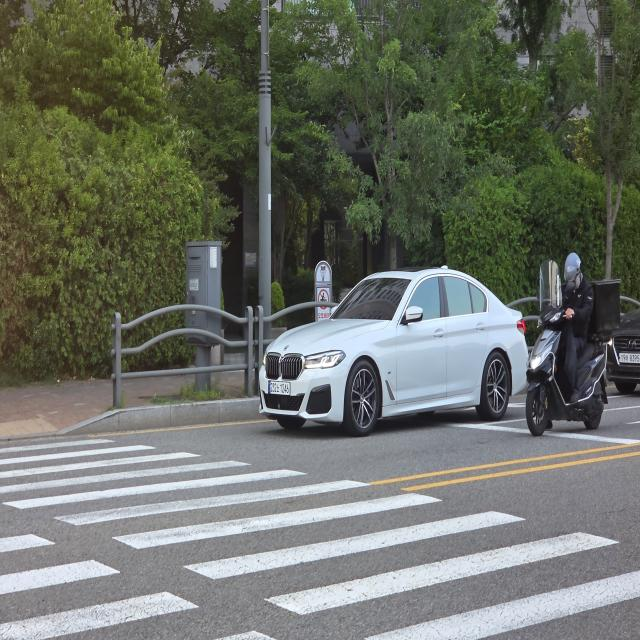car: (254, 251, 526, 468)
motorcycle: (520, 225, 630, 476)
